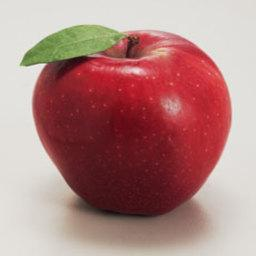apple: (29, 26, 232, 215)
